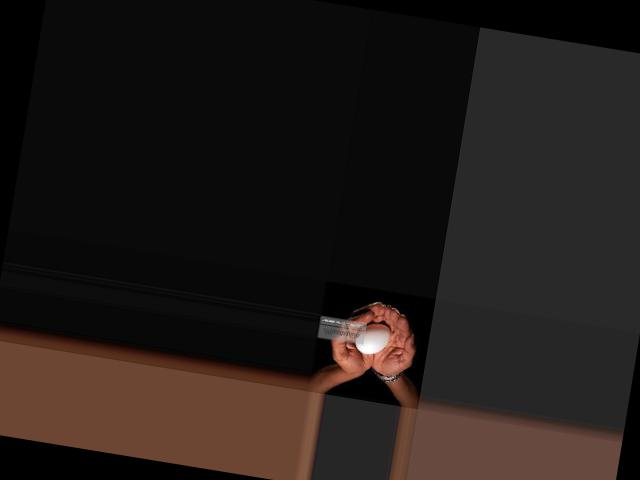egg: (354, 319, 392, 357)
